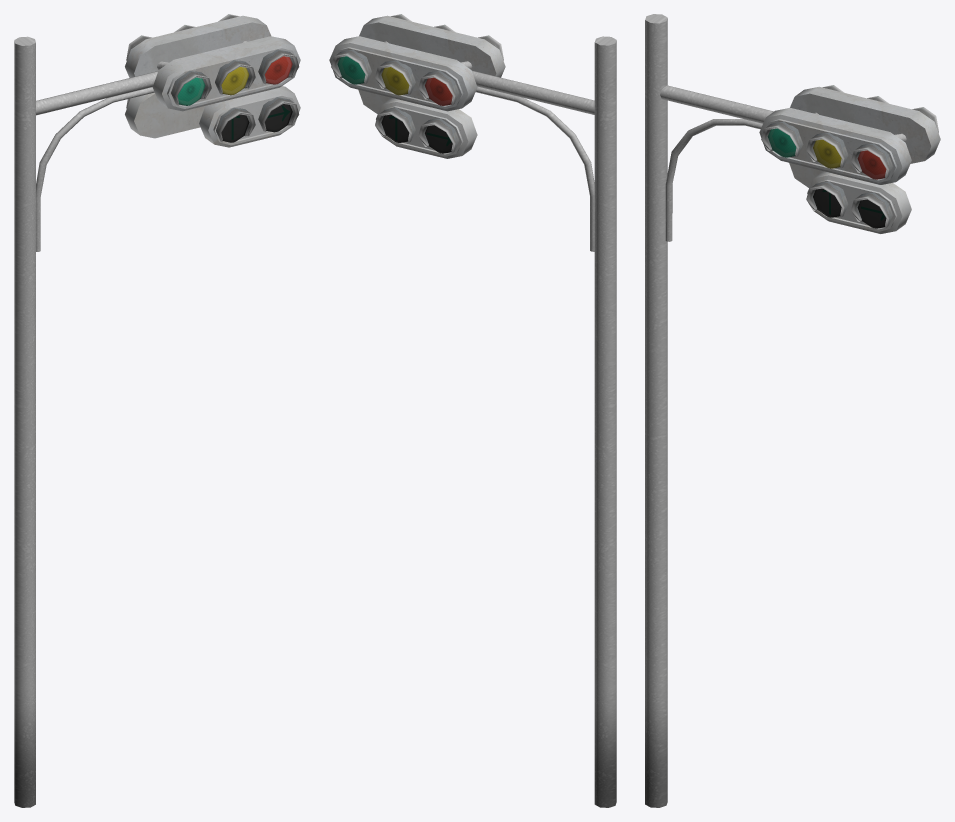
The model's file is shingou.fbx.
3 views of the same model, side by side, from view 1: azimuth 30°, elevation 25°; view 2: azimuth 150°, elevation 25°; view 3: azimuth 330°, elevation 25° (orthographic). The views are drawn at different scales.
Parts seen in each view (by area): view 1: pCylinder6, polySurface4, polySurface32, polySurface17, polySurface30, pCylinder2, pCylinder3, polySurface11, polySurface2, polySurface5, polySurface22, polySurface6 (+5 smaller); view 2: pCylinder6, polySurface32, polySurface4, polySurface30, pCylinder2, pCylinder3, polySurface23, polySurface24, polySurface31, polySurface36, polySurface33, polySurface25 (+4 smaller); view 3: pCylinder6, polySurface32, polySurface4, polySurface17, pCylinder2, pCylinder3, polySurface6, polySurface2, polySurface5, polySurface21, polySurface22, polySurface18 (+4 smaller).
Part boxes in pixels (<box>): pCylinder6: <box>14,36,35,807</box>; polySurface4: <box>152,36,300,111</box>; polySurface32: <box>125,15,271,77</box>; polySurface17: <box>199,86,300,147</box>; polySurface30: <box>125,92,205,138</box>; pCylinder2: <box>36,71,158,115</box>; pCylinder3: <box>36,87,154,251</box>; polySurface11: <box>215,60,255,94</box>; polySurface2: <box>265,56,292,84</box>; polySurface5: <box>177,77,205,105</box>; polySurface22: <box>265,104,292,132</box>; polySurface6: <box>221,67,249,95</box>; pCylinder6: <box>594,36,616,807</box>; polySurface32: <box>329,36,477,111</box>; polySurface4: <box>359,15,505,77</box>; polySurface30: <box>376,98,477,158</box>; pCylinder2: <box>472,70,594,114</box>; pCylinder3: <box>475,86,594,251</box>; polySurface23: <box>425,125,452,153</box>; polySurface24: <box>375,108,415,142</box>; polySurface31: <box>337,56,365,84</box>; polySurface36: <box>381,67,409,95</box>; polySurface33: <box>425,77,452,105</box>; polySurface25: <box>331,49,371,84</box>; pCylinder6: <box>645,14,667,807</box>; polySurface32: <box>790,86,940,163</box>; polySurface4: <box>759,107,911,184</box>; polySurface17: <box>807,171,911,233</box>; pCylinder2: <box>660,85,773,123</box>; pCylinder3: <box>665,119,762,241</box>; polySurface6: <box>813,139,841,168</box>; polySurface2: <box>857,150,886,179</box>; polySurface5: <box>767,128,796,157</box>; polySurface21: <box>806,181,848,217</box>; polySurface22: <box>857,199,886,228</box>; polySurface18: <box>813,188,841,217</box>.
Bounding box in the file's own units: 238 × 648 × 85.74.
